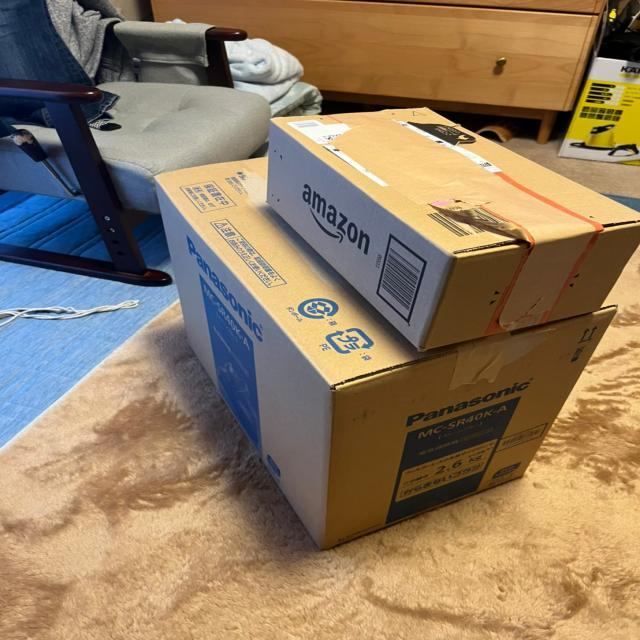-: (146, 140, 625, 555), (259, 102, 640, 357)
